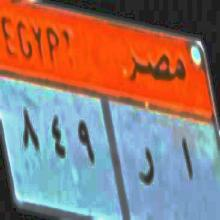4: (50, 111, 66, 168)
8: (20, 105, 41, 162)
9: (76, 119, 97, 174)
alif: (178, 127, 195, 190)
raa: (136, 144, 156, 193)
